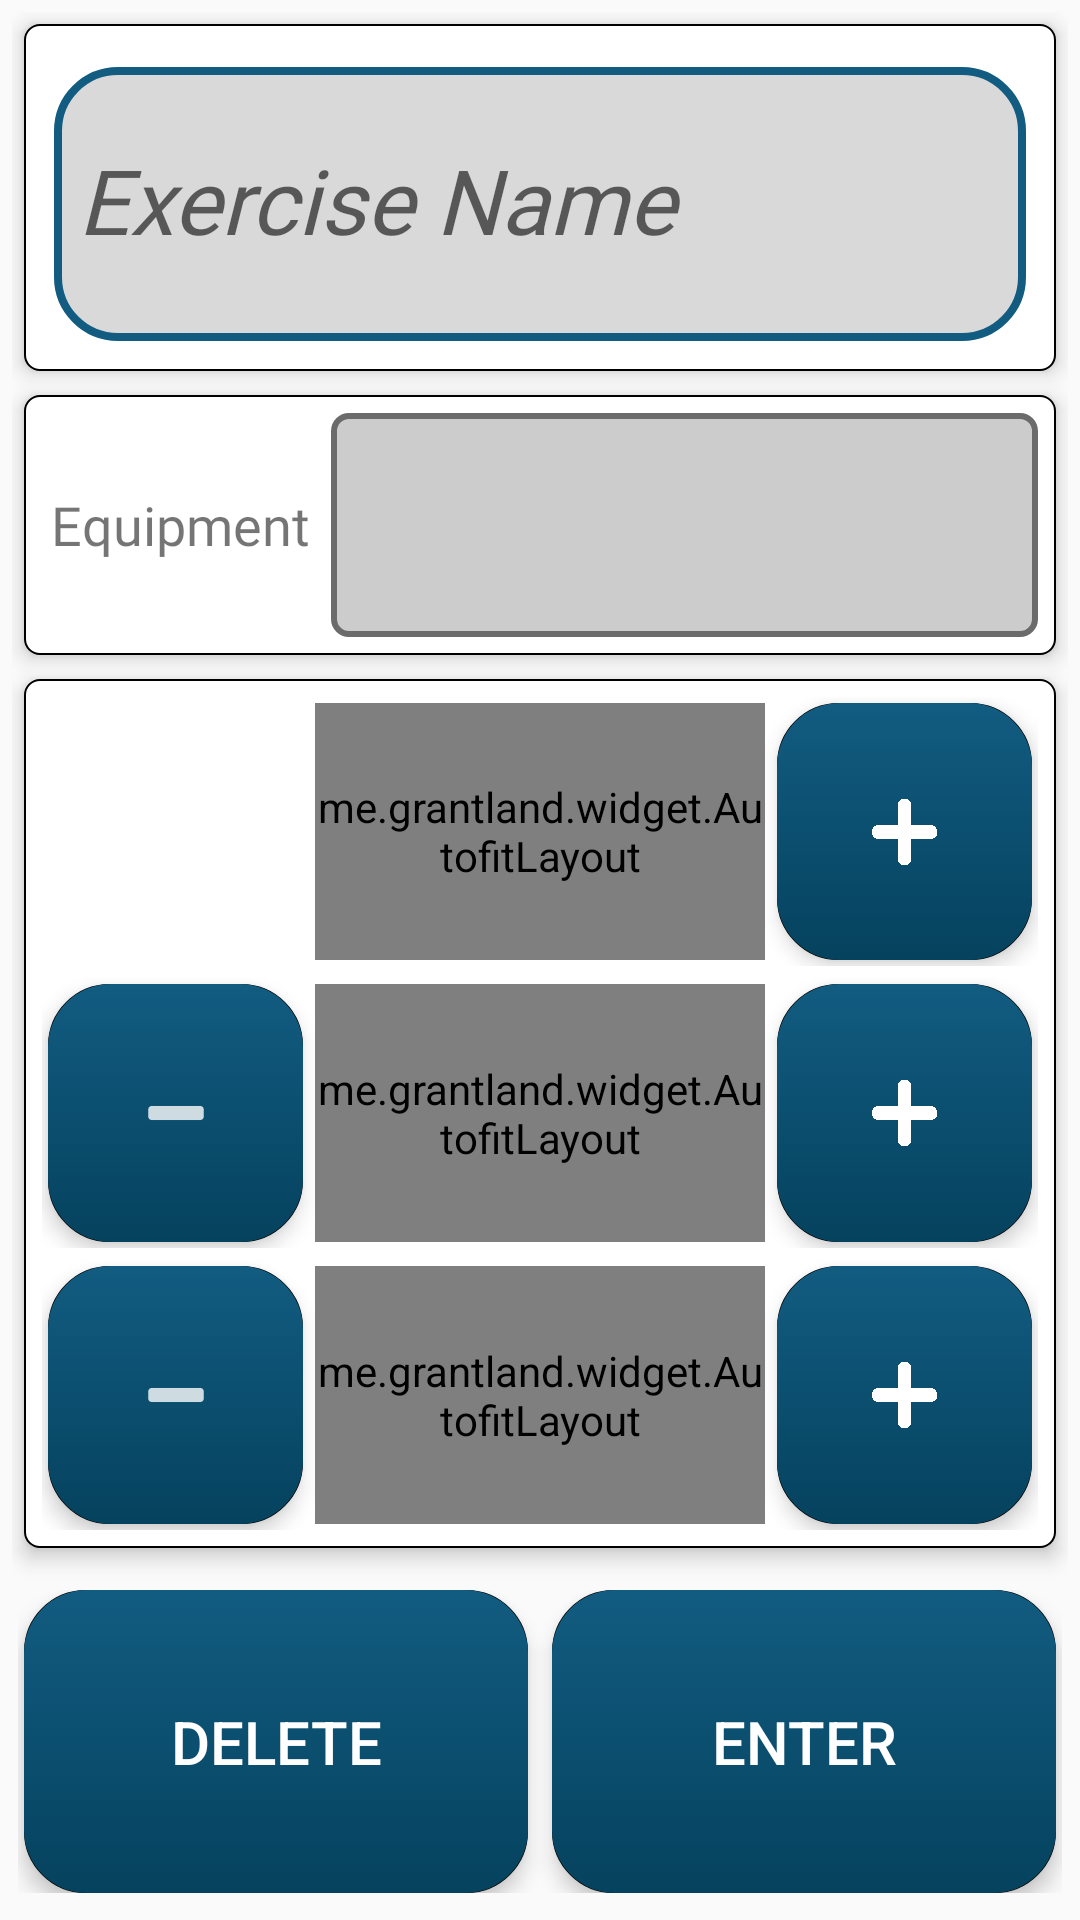

Where to tap for icons on this 1080x1920 app screen, as (x=x, y=y):
minus: (x=175, y=1113), (x=175, y=1395)
plus: (x=904, y=831), (x=904, y=1113), (x=904, y=1395)
